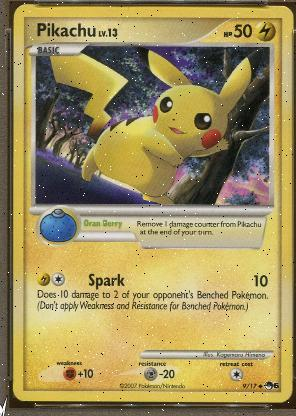Card: (11, 1, 293, 406)
